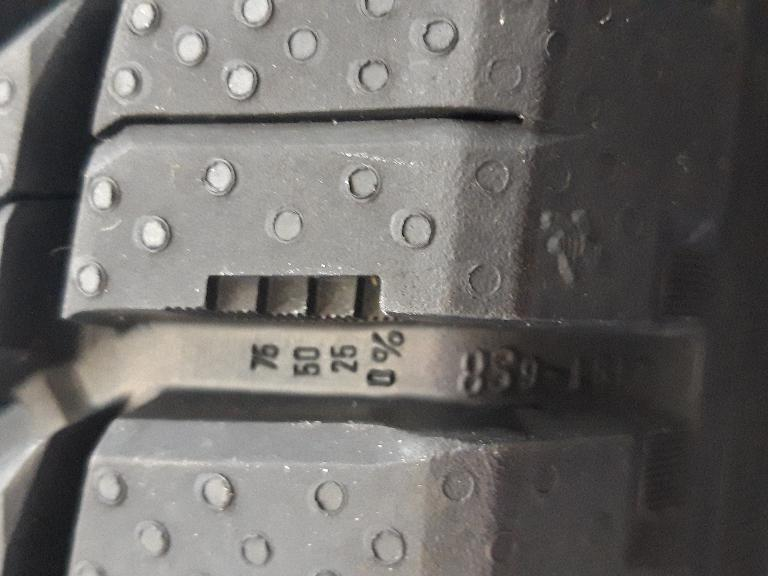temoin:100: (163, 271, 393, 331)
